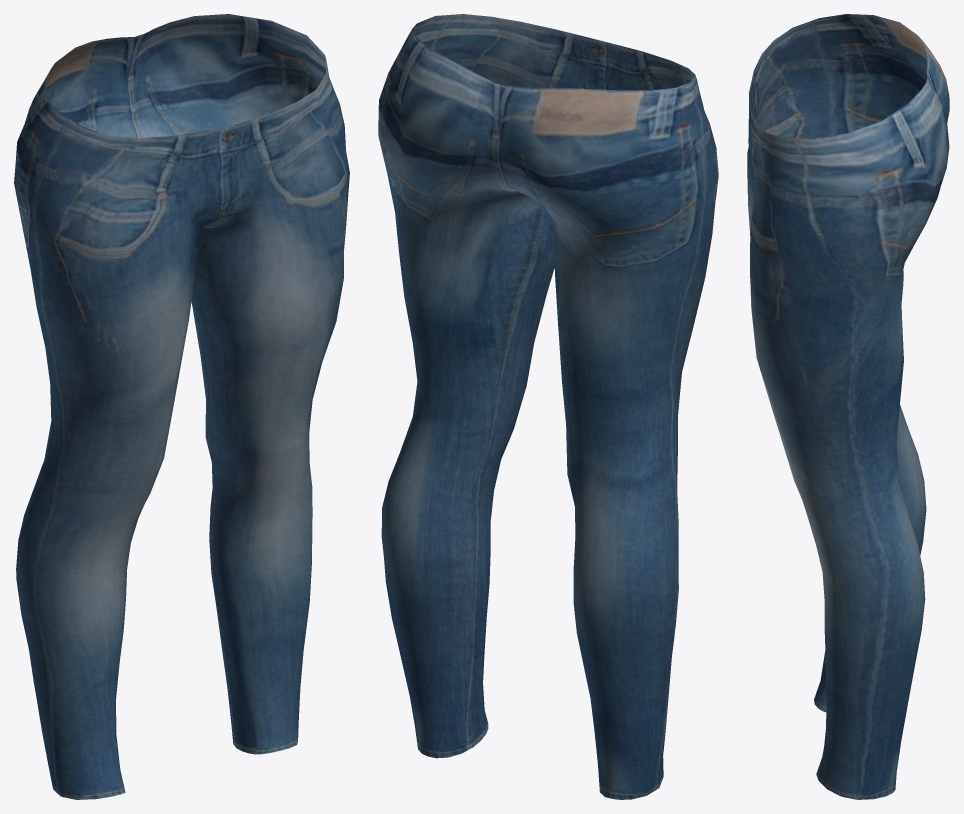
File: bottom_jeans_light.gltf
3 renders of one model, left to right at view 1: azimuth 30°, elevation 25°; view 2: azimuth 150°, elevation 25°; view 3: azimuth 270°, elevation 25°, orthographic. The views are drawn at different scales.
Parts seen in each view (by area): view 1: bottom_jeans_light; view 2: bottom_jeans_light; view 3: bottom_jeans_light.
Boxes of the visible parts, box(x1,y1,x2,y2) form: bottom_jeans_light: box(14, 14, 349, 799); bottom_jeans_light: box(378, 14, 718, 799); bottom_jeans_light: box(747, 14, 949, 799).
Size of the model in its own units: 0.3682 by 0.8251 by 0.222.
1 material, 1 textured.
